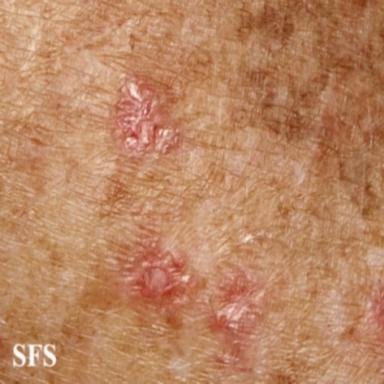Porokeratosis: (207, 261, 266, 371), (116, 75, 181, 156), (124, 239, 196, 307), (351, 247, 384, 374)
